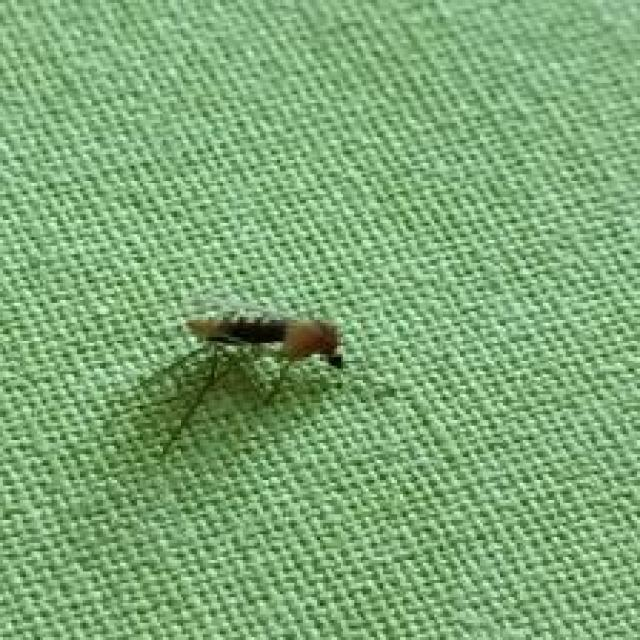Culex: (137, 310, 346, 459)
